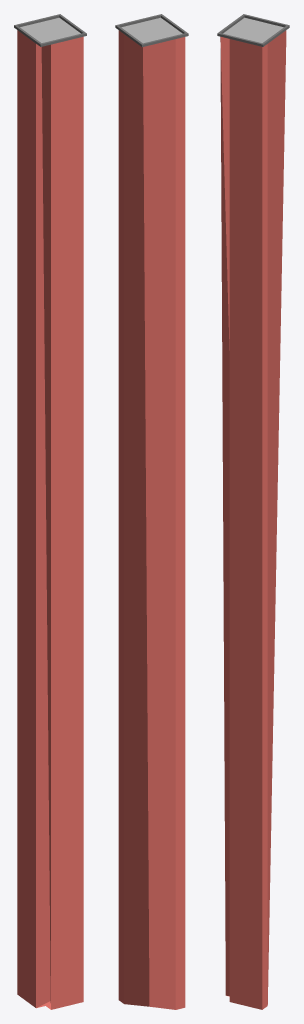
Rendered from Building 1.fbx.
The picture shows the model from 3 angles, left to right: view 1: azimuth 30°, elevation 25°; view 2: azimuth 210°, elevation 25°; view 3: azimuth 330°, elevation 25°; orthographic projection.
Visible parts, largest first — view 1: Cube; view 2: Cube; view 3: Cube.
Part boxes in pixels (box(x1,y1,x2,y2)): Cube: box(14, 14, 86, 1009); Cube: box(115, 14, 188, 1009); Cube: box(217, 14, 289, 1009).
Bounding box in the file's own units: 200 × 4012 × 200.
